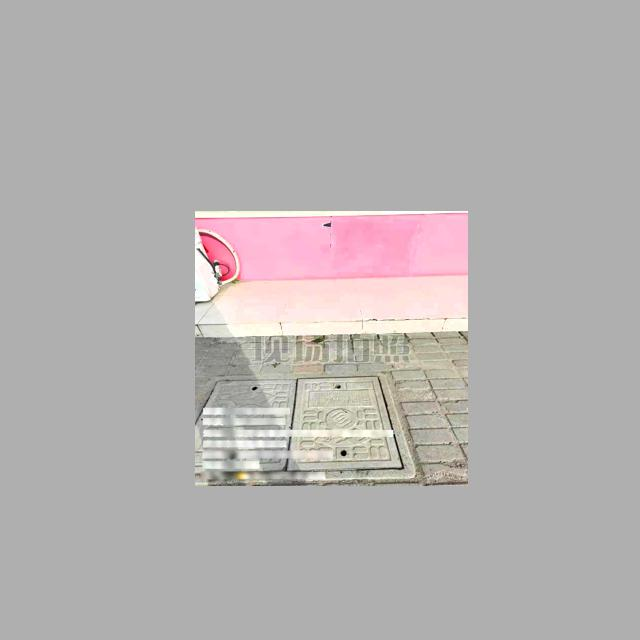good: (195, 373, 415, 480)
